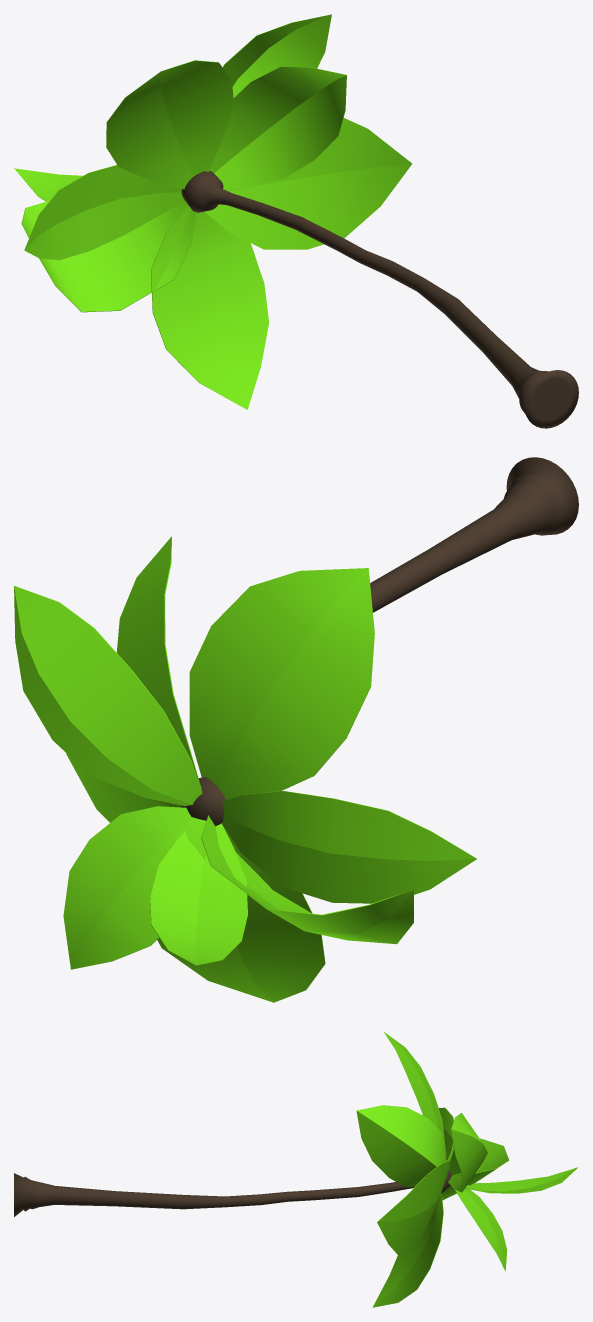
File: palm.fbx
3 views of the same model, one above another, from view 1: azimuth 30°, elevation 25°; view 2: azimuth 150°, elevation 25°; view 3: azimuth 270°, elevation 25° (orthographic). The views are drawn at different scales.
Parts seen in each view (by area): view 1: Plane.002; view 2: Plane.002; view 3: Plane.002.
Part boxes in pixels (x1,y1,x2,y2): Plane.002: (14,14,578,428); Plane.002: (14,457,578,1002); Plane.002: (14,1031,578,1307).
Size of the model in its own units: 3.44 by 6.67 by 3.25.
